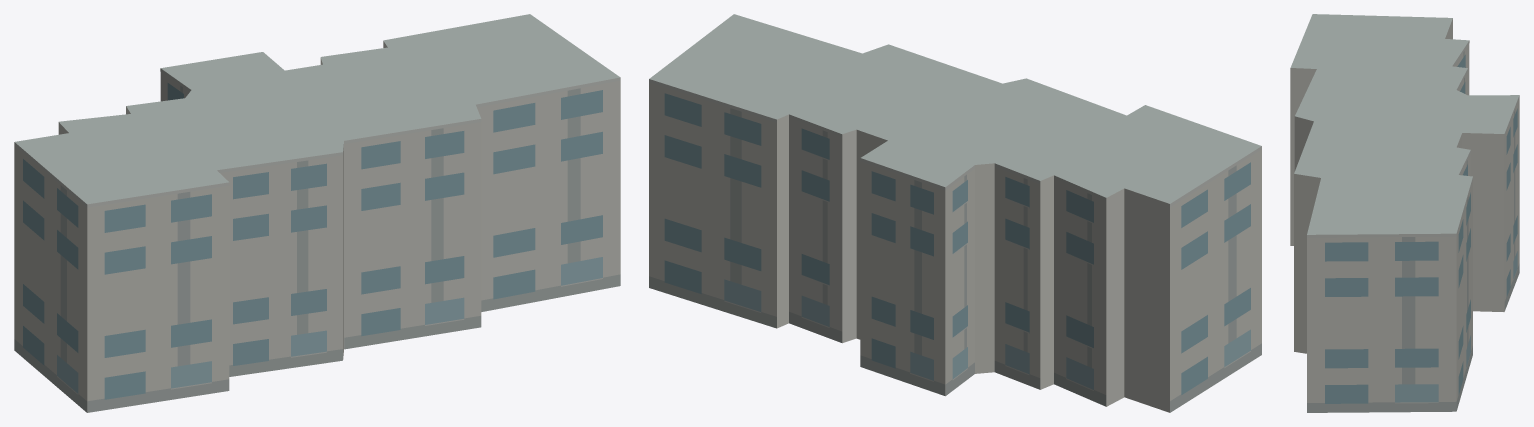
The model's file is residential-7b0e083a-4a63-4cf2-8e80-b32ccf474d6e.glb.
The picture shows the model from 3 angles, left to right: view 1: azimuth 30°, elevation 25°; view 2: azimuth 150°, elevation 25°; view 3: azimuth 270°, elevation 25°; orthographic projection. The views are drawn at different scales.
Visible parts, largest first — view 1: residential-7b0e083a-4a63-4cf2-8e80-b32ccf474d6e.tmp; view 2: residential-7b0e083a-4a63-4cf2-8e80-b32ccf474d6e.tmp; view 3: residential-7b0e083a-4a63-4cf2-8e80-b32ccf474d6e.tmp.
Part boxes in pixels (box(x1,y1,x2,y2)): residential-7b0e083a-4a63-4cf2-8e80-b32ccf474d6e.tmp: box(14, 14, 620, 412); residential-7b0e083a-4a63-4cf2-8e80-b32ccf474d6e.tmp: box(649, 14, 1261, 412); residential-7b0e083a-4a63-4cf2-8e80-b32ccf474d6e.tmp: box(1290, 14, 1519, 412).
Size of the model in its own units: 40.58 by 15.25 by 17.79.
